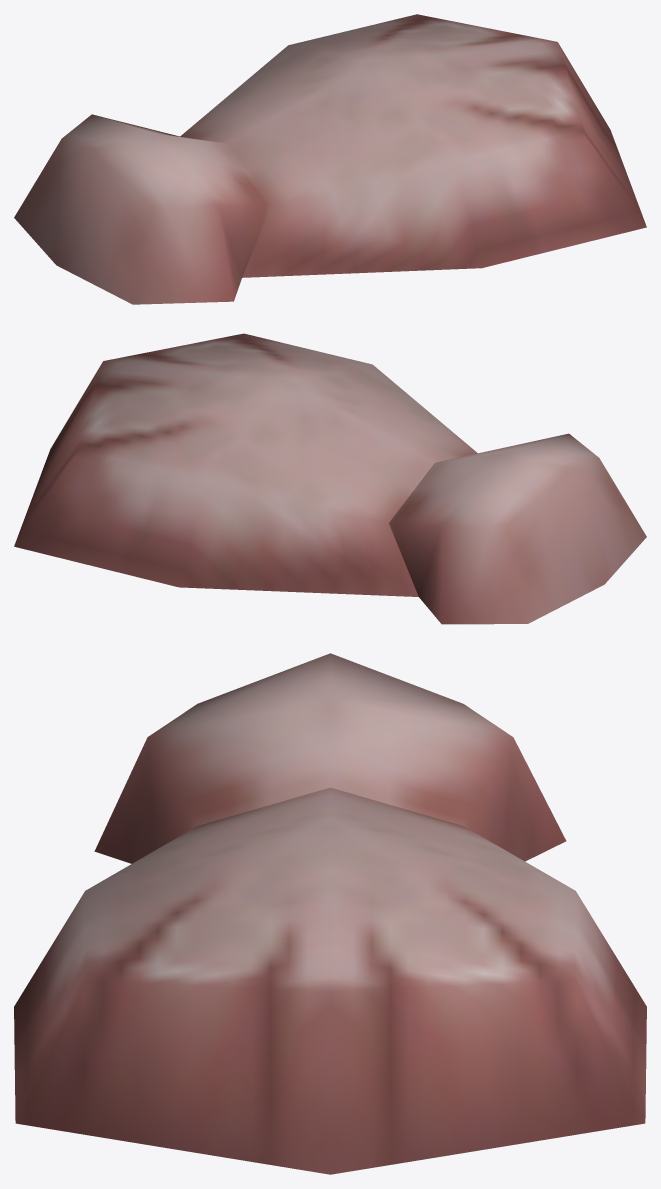
Rendered from ETC0610002.fbx.
3 renders of one model, top to bottom at view 1: azimuth 30°, elevation 25°; view 2: azimuth 150°, elevation 25°; view 3: azimuth 270°, elevation 25°, orthographic. The views are drawn at different scales.
Parts seen in each view (by area): view 1: smETC0610002; view 2: smETC0610002; view 3: smETC0610002.
Part boxes in pixels (x1,y1,x2,y2): smETC0610002: (14,14,646,304); smETC0610002: (14,333,646,624); smETC0610002: (14,653,646,1174).
Size of the model in its own units: 105 by 22.71 by 71.94.
1 material, 1 textured.
